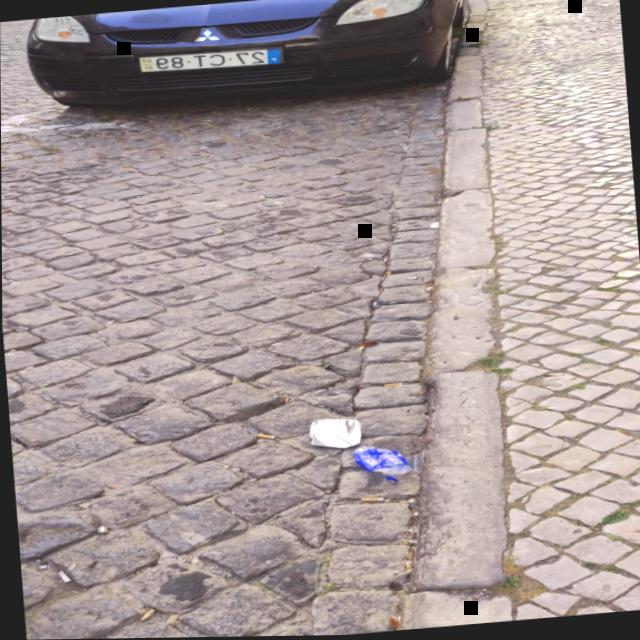Aluminium foil: (309, 419, 360, 449)
Cigarette: (56, 571, 71, 583), (165, 615, 178, 625), (360, 498, 383, 503), (256, 434, 275, 440), (405, 561, 413, 571), (382, 383, 401, 387), (544, 374, 562, 378), (214, 227, 224, 232), (374, 148, 381, 151)
Metal bottle cap: (406, 275, 419, 281)
Plastic film: (357, 347, 367, 350)
Unlabeled litter: (95, 526, 107, 534), (430, 222, 438, 229)
